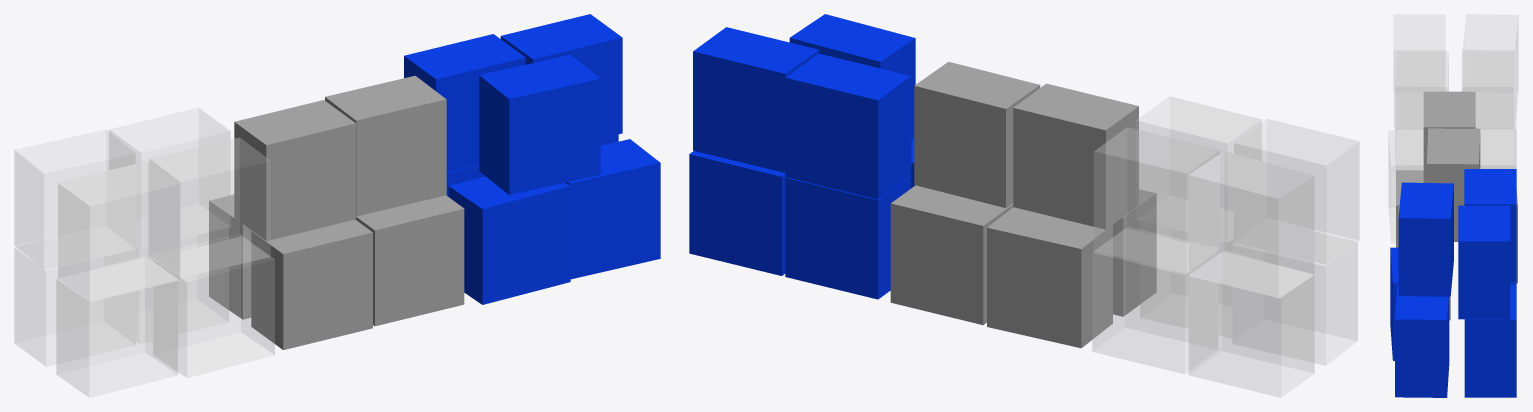
File: BeerPack_74mugc_Pack01.fbx
3 renders of one model, left to right at view 1: azimuth 30°, elevation 25°; view 2: azimuth 150°, elevation 25°; view 3: azimuth 270°, elevation 25°, orthographic. The views are drawn at different scales.
Parts seen in each view (by area): view 1: BeerPack_74mugc_Pack01; view 2: BeerPack_74mugc_Pack01; view 3: BeerPack_74mugc_Pack01.
Boxes of the visible parts, <box> form: BeerPack_74mugc_Pack01: <box>14,14,660,397</box>; BeerPack_74mugc_Pack01: <box>689,14,1359,397</box>; BeerPack_74mugc_Pack01: <box>1388,14,1518,397</box>.
Size of the model in its own units: 97.08 by 31.11 by 23.45.
